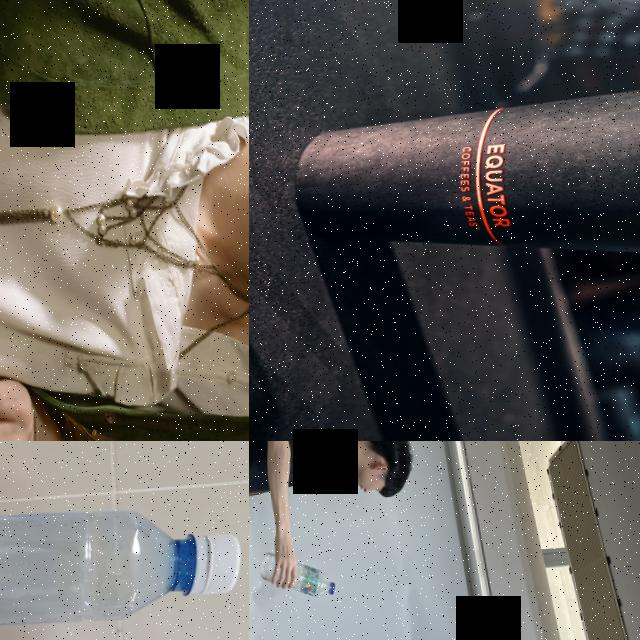bottle: (0, 500, 244, 640), (256, 551, 336, 603)
cup: (290, 76, 640, 282)
